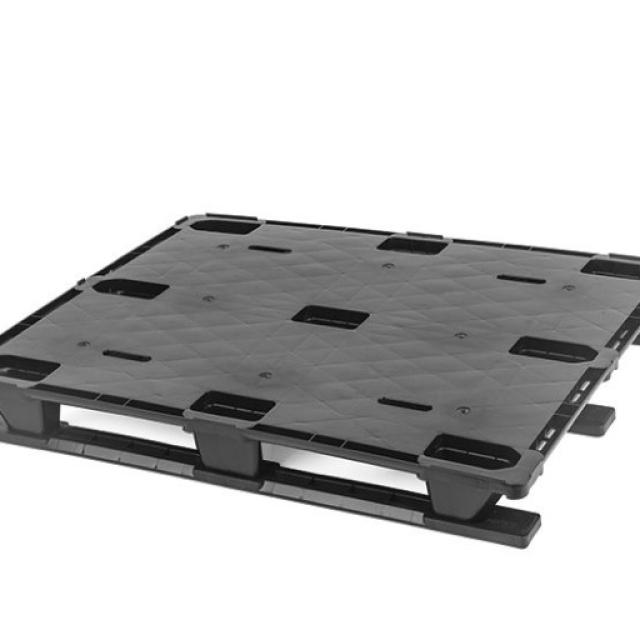non-igps: (0, 205, 640, 555)
